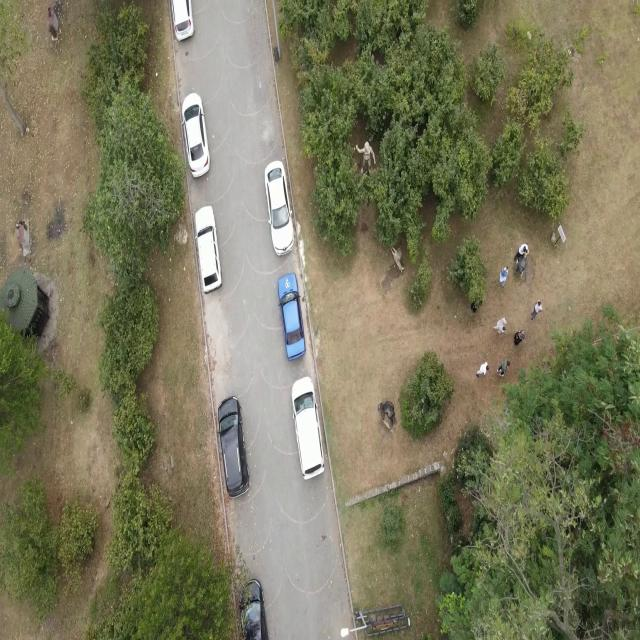people: (530, 300, 542, 322), (514, 244, 528, 262), (497, 359, 510, 377), (493, 319, 508, 334), (476, 362, 489, 377), (499, 266, 508, 286), (514, 330, 525, 346)
